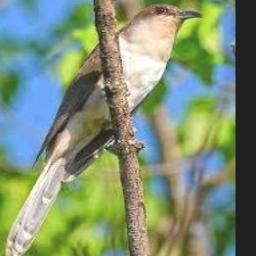Cuckoo: (4, 3, 200, 256)
